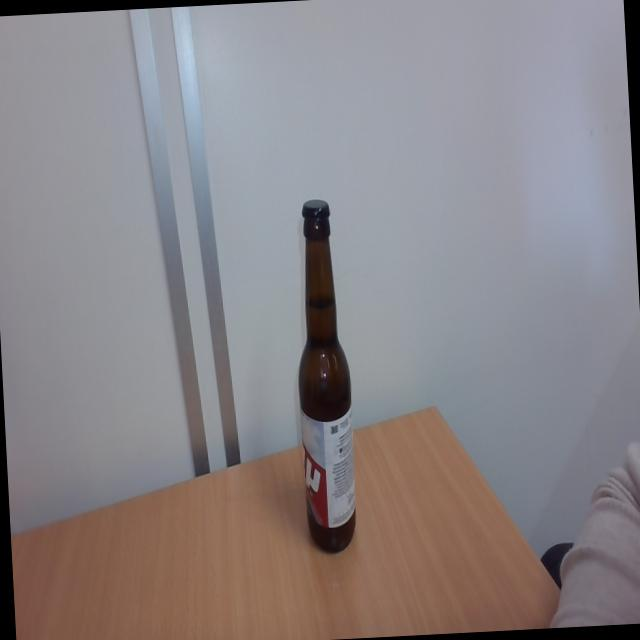Bottle: (290, 222, 360, 556)
Cap: (301, 197, 332, 224)
Label: (302, 409, 358, 529)
